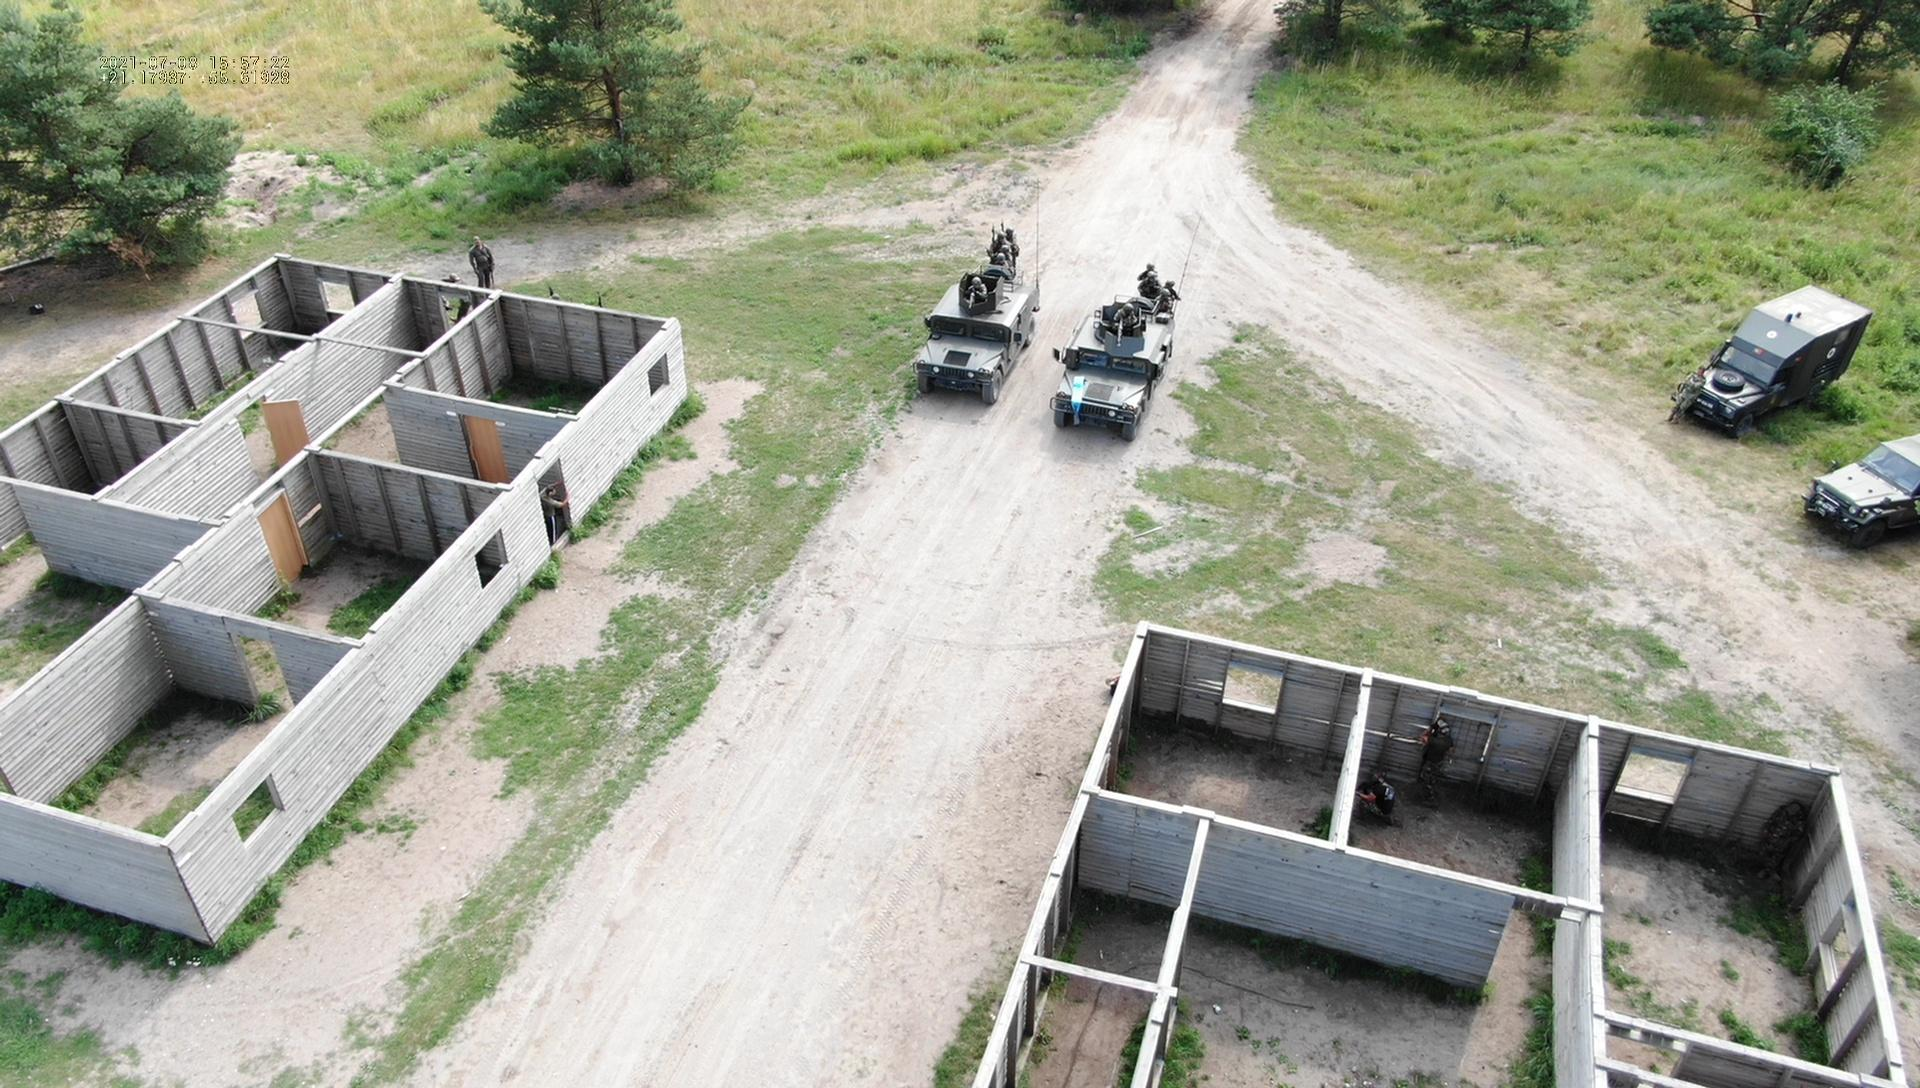Soldier: (1739, 812, 1805, 903), (1408, 721, 1461, 823), (1672, 364, 1708, 442), (1373, 761, 1403, 841), (465, 235, 504, 293), (1109, 306, 1149, 342), (1137, 261, 1166, 307), (971, 274, 1001, 314), (988, 232, 1021, 266), (997, 231, 1022, 265)
